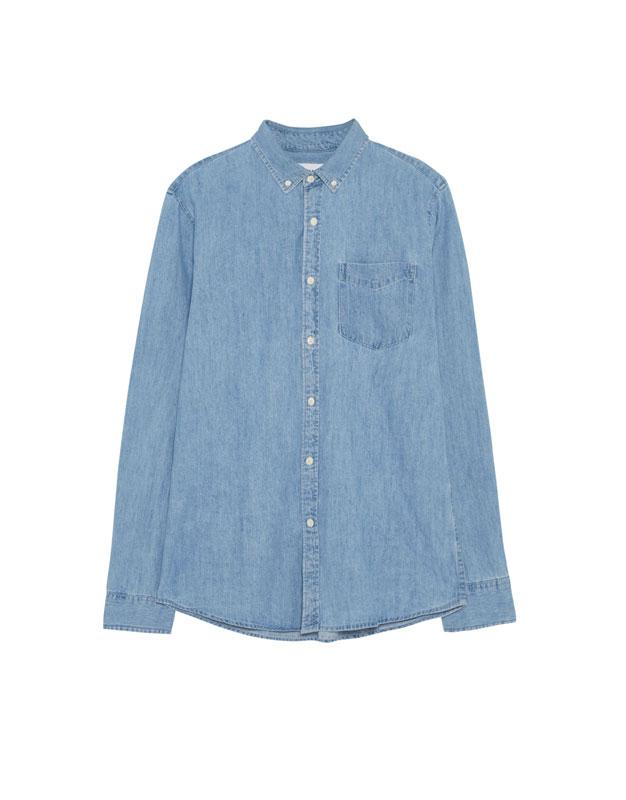teeshirt: (79, 114, 524, 653)
